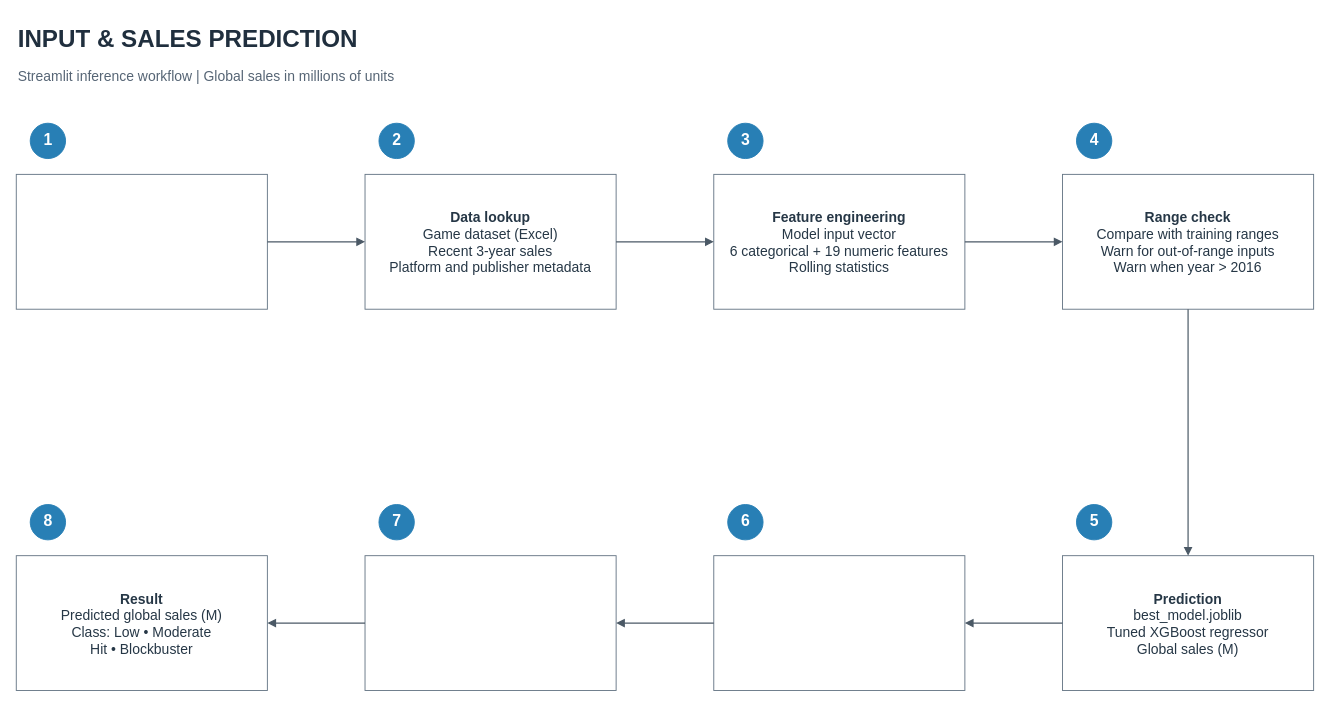
Some shapes in this 1330 by 707 pixel diagram are drawn without their labels. The centre of each missing label's shape, as x and y in pixels:
"Error band Prediction ± 1.96 × test MAE MAE = 0.385M Approximate range" goes at [490,623].
"Post-process Remove negative predictions Minimum displayed value: 0.01M" goes at [839,623].
"User input Release year Genre, platform, publisher Sequel and franchise details" goes at [141,241].
